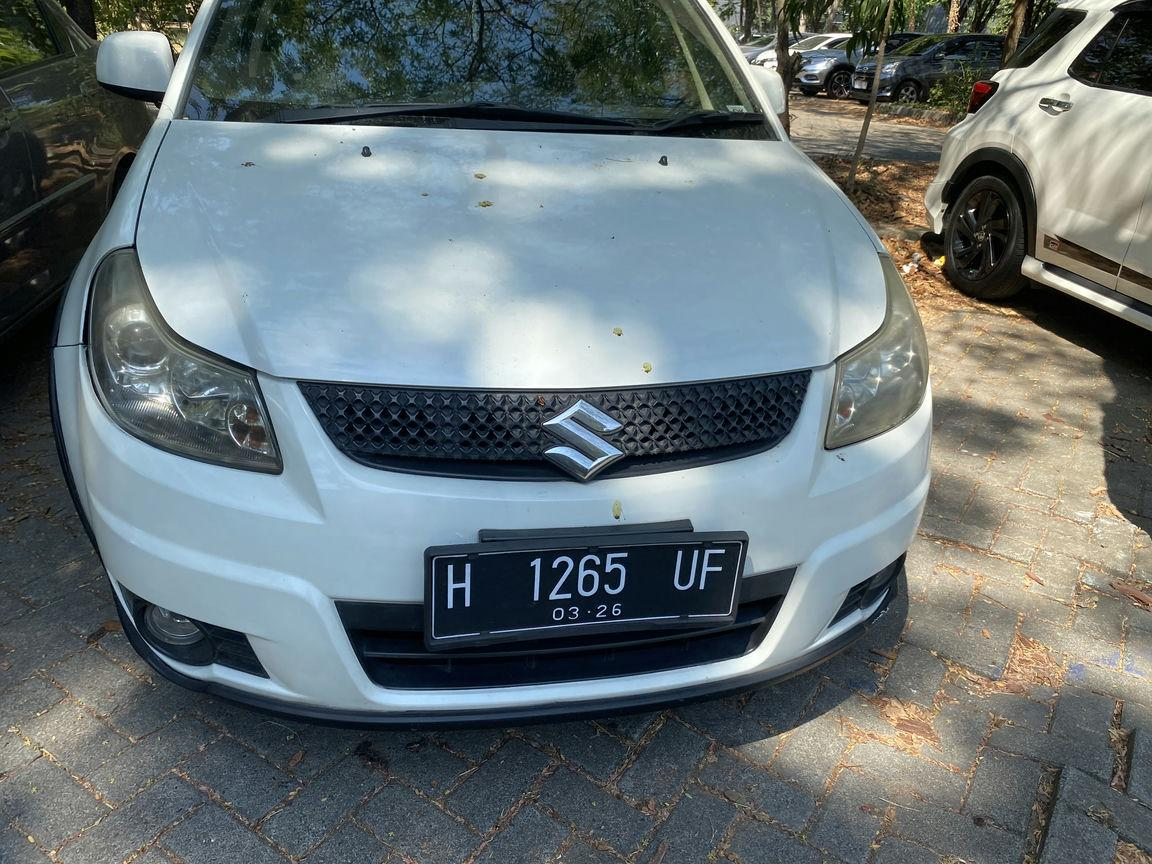plat: (440, 544, 738, 634)
